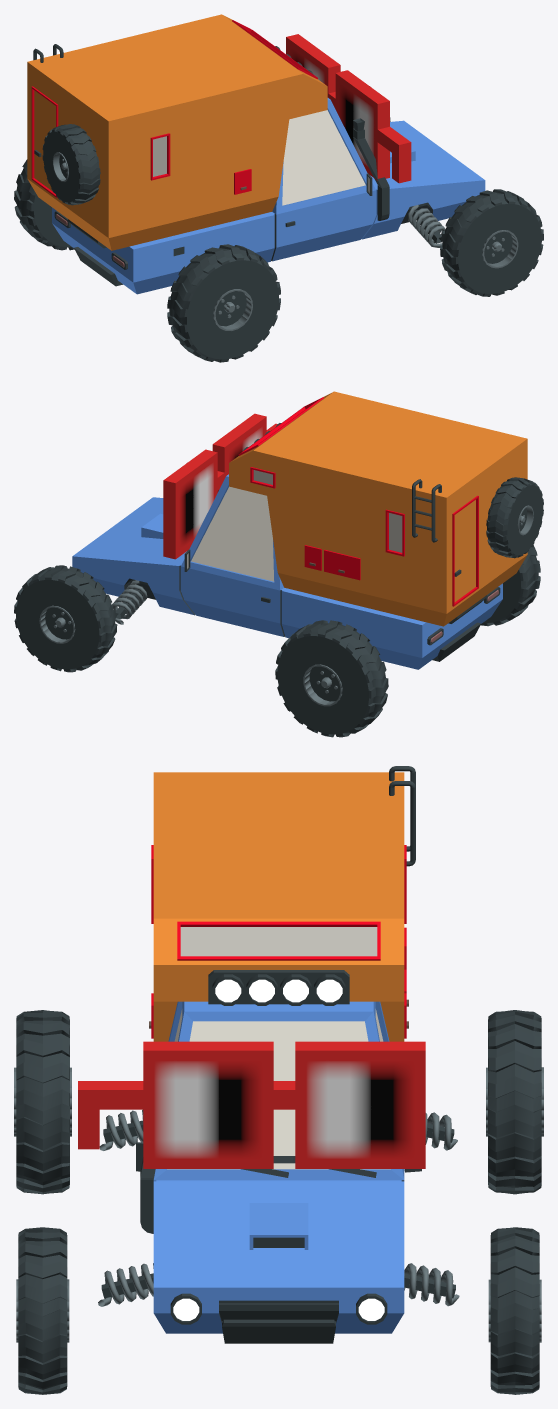
3 views of the same model, one above another, from view 1: azimuth 30°, elevation 25°; view 2: azimuth 150°, elevation 25°; view 3: azimuth 270°, elevation 25° (orthographic). The views are drawn at different scales.
Visible parts, largest first — view 1: Frame; view 2: Frame; view 3: Frame.
Part boxes in pixels (x1,y1,x2,y2): Frame: (14, 14, 543, 362); Frame: (14, 391, 543, 737); Frame: (14, 766, 543, 1394).
Bounding box in the file's own units: 1.73 × 0.9417 × 1.23.
Materials: 11 (1 with a texture image).
